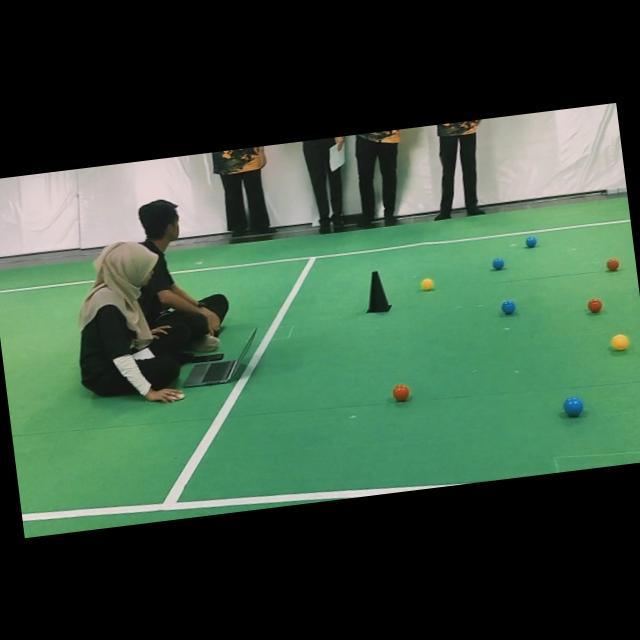ball: (563, 396, 583, 416), (610, 334, 629, 350), (392, 384, 409, 401), (586, 297, 602, 313), (501, 299, 515, 314), (605, 257, 619, 271), (421, 278, 434, 290), (525, 236, 537, 248), (492, 258, 504, 269)
